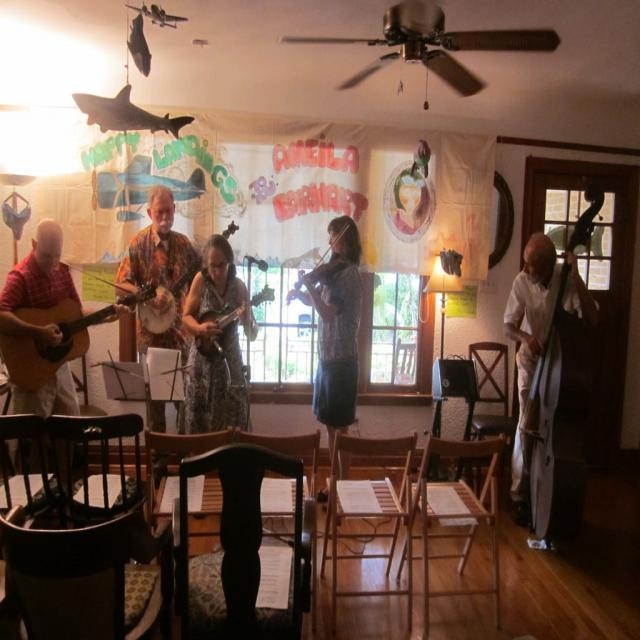fan_off: (279, 0, 554, 96)
